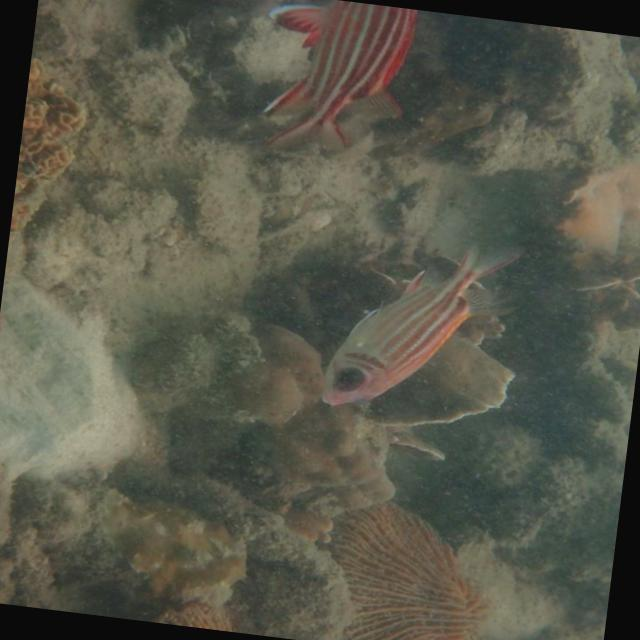Asker Baligi: (315, 226, 528, 430), (248, 0, 420, 166)
